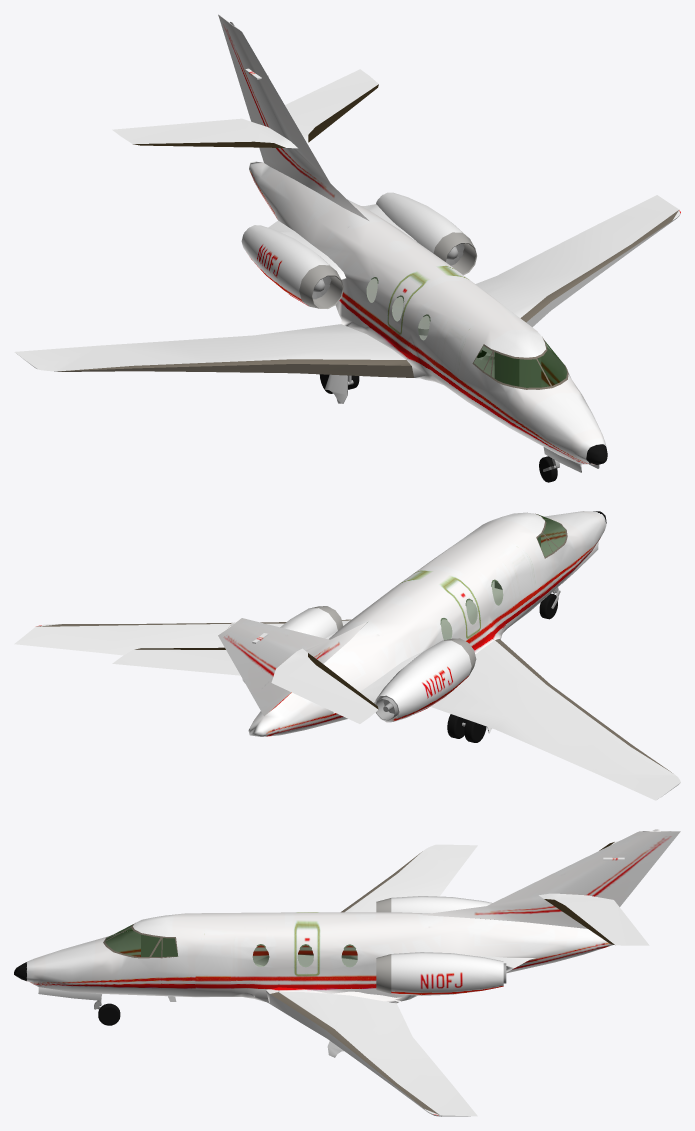
The picture shows the model from 3 angles, top to bottom: view 1: azimuth 30°, elevation 25°; view 2: azimuth 150°, elevation 25°; view 3: azimuth 270°, elevation 25°; orthographic projection. The views are drawn at different scales.
Parts seen in each view (by area): view 1: horestab_0, horestab; view 2: horestab_0, horestab; view 3: horestab_0, horestab.
Part boxes in pixels (left/top/right/bottom): horestab_0: left=14, top=14, right=680, bottom=482; horestab: left=244, top=199, right=540, bottom=389; horestab_0: left=14, top=511, right=680, bottom=800; horestab: left=376, top=533, right=540, bottom=720; horestab_0: left=14, top=829, right=680, bottom=1116; horestab: left=141, top=935, right=506, bottom=983.
Size of the model in its own units: 523722 by 176233 by 543901.
Materials: 20 (10 with a texture image).
